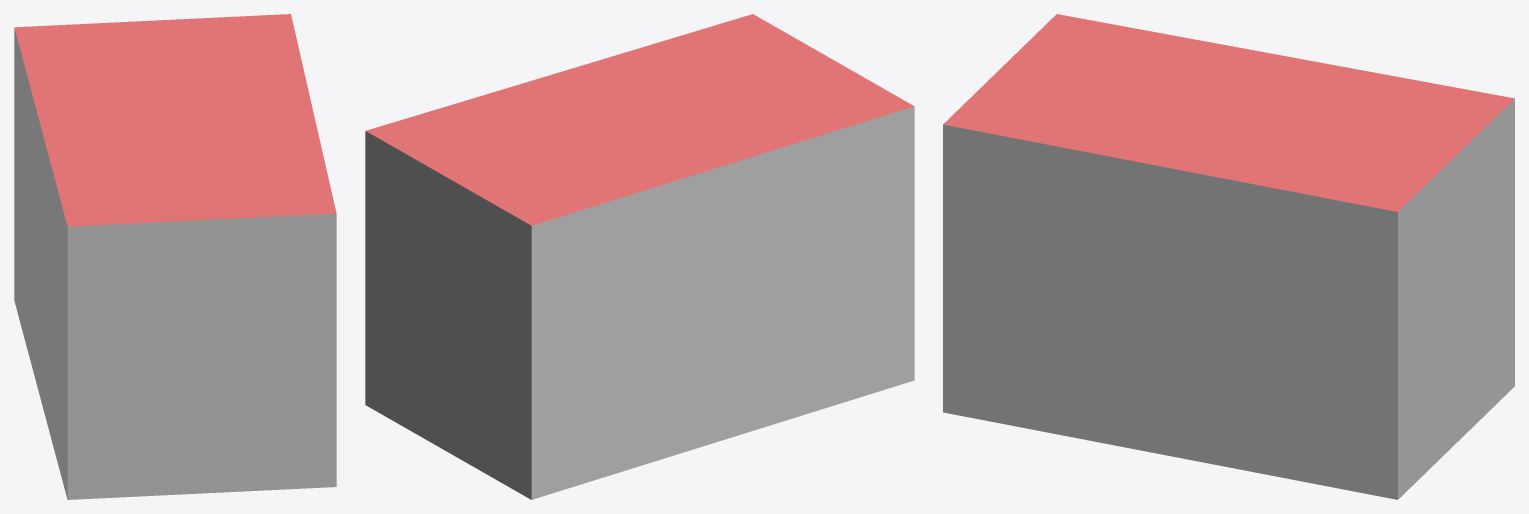
Rendered from DEBY_LOD2_4908023.gltf.
3 renders of one model, left to right at view 1: azimuth 30°, elevation 25°; view 2: azimuth 150°, elevation 25°; view 3: azimuth 270°, elevation 25°, orthographic. The views are drawn at different scales.
Visible parts, largest first — view 1: Z_UP; view 2: Z_UP; view 3: Z_UP.
Part boxes in pixels (box(x1,y1,x2,y2)): Z_UP: box(14, 14, 336, 499); Z_UP: box(365, 14, 914, 499); Z_UP: box(943, 14, 1514, 499).
Bounding box in the file's own units: 5.77 × 3.91 × 7.04.
